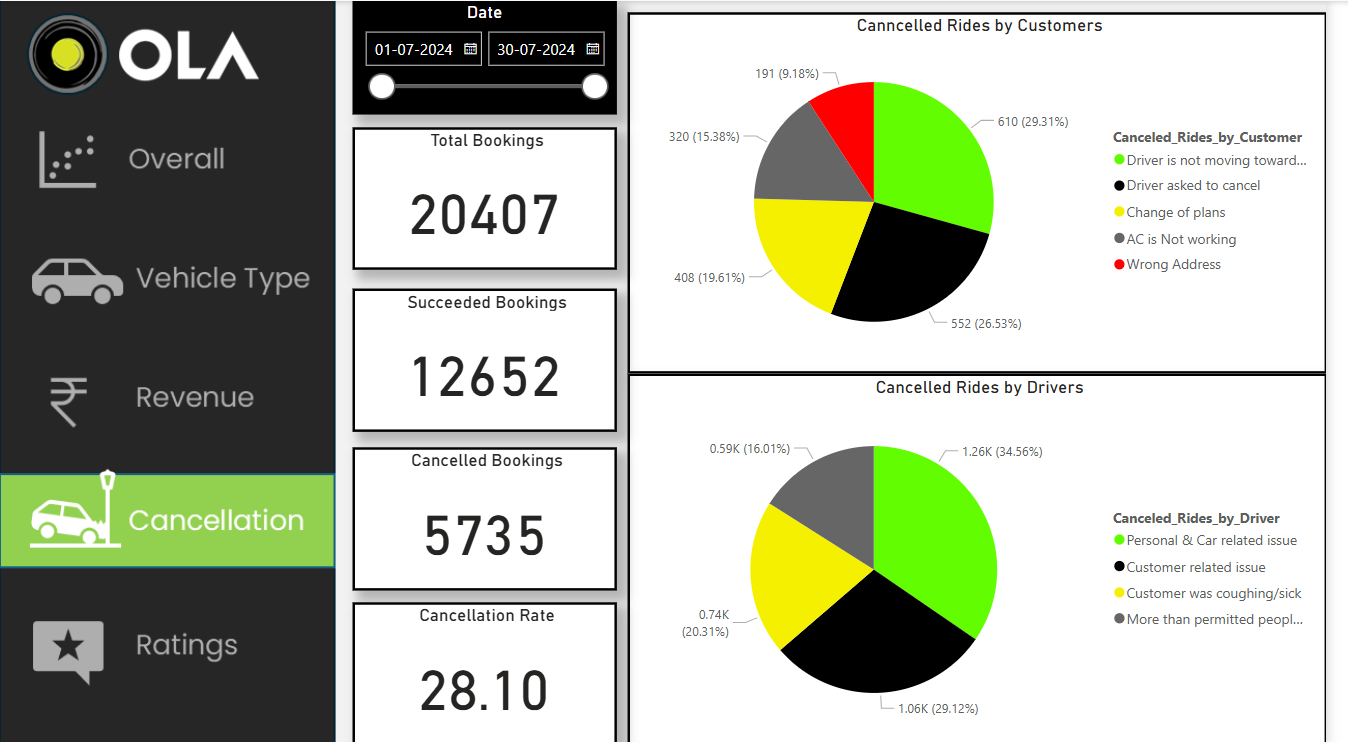

Layout of this report page (visuals, bound fields, positions):
{"tool":"powerbi","page":{"name":"Cancellation","canvas":[1280,720],"ordinal":3},"visuals":[{"type":"actionButton","box":[0,223.7,325,92.1],"z":0},{"type":"actionButton","box":[0,338.2,325,93.4],"z":1000},{"type":"actionButton","box":[0,580.3,325,93.4],"z":2000},{"type":"actionButton","box":[0,106.6,325,93.4],"z":3000},{"type":"pieChart","title":"Canncelled Rides by Customers","fields":{"Category":["July (2).Canceled_Rides_by_Customer"],"Y":["CountNonNull(July (2).Canceled_Rides_by_Customer)"]},"box":[605.1,11,675.1,348.5],"z":4000},{"type":"pieChart","title":"Cancelled Rides by Drivers","fields":{"Category":["July (2).Canceled_Rides_by_Driver"],"Y":["CountNonNull(July (2).Canceled_Rides_by_Driver)"]},"box":[605.1,359.5,675.1,360.9],"z":5000},{"type":"slicer","title":"Date","fields":{"Values":["July (2).Date"]},"box":[340.3,0,255.2,109.8],"z":6000},{"type":"card","title":"Total Bookings","fields":{"Values":["Count(July (2).Booking_ID)"]},"box":[340.3,122.1,255.2,137.2],"z":7000},{"type":"card","title":"Succeeded Bookings","fields":{"Values":["Count(July (2).Booking_ID)"]},"box":[340.3,277.2,255.2,138.6],"z":8000},{"type":"card","title":"Cancelled Bookings","fields":{"Values":["Count(July (2).Booking_ID)"]},"box":[340.3,430.9,255.2,138.6],"z":9000},{"type":"card","title":"Cancellation Rate ","fields":{"Values":["July.Cancelled_Percentage"]},"box":[340.3,580.4,255.2,138.6],"z":10000}]}

Visuals, with their boxes in screenshot pixels (x1, y1, x2, y2), scaled from the page's 1280x720 canvas onto the 1348x742 screenshot:
actionButton: 0:231:342:325
actionButton: 0:349:342:445
actionButton: 0:598:342:694
actionButton: 0:110:342:206
"Canncelled Rides by Customers" pieChart: 637:11:1347:370
"Cancelled Rides by Drivers" pieChart: 637:370:1347:741
"Date" slicer: 358:0:627:113
"Total Bookings" card: 358:126:627:267
"Succeeded Bookings" card: 358:286:627:429
"Cancelled Bookings" card: 358:444:627:587
"Cancellation Rate " card: 358:598:627:741
